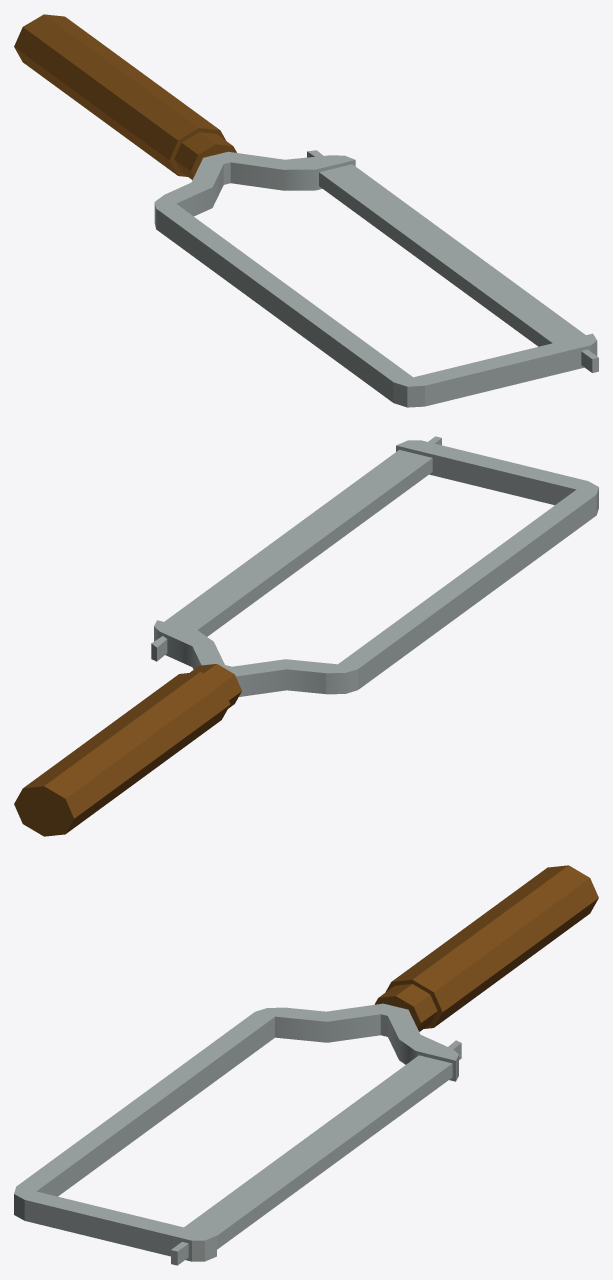
File: CuttingSaw.fbx
The picture shows the model from 3 angles, top to bottom: view 1: azimuth 30°, elevation 25°; view 2: azimuth 150°, elevation 25°; view 3: azimuth 330°, elevation 25°; orthographic projection.
Parts seen in each view (by area): view 1: CuttingSaw; view 2: CuttingSaw; view 3: CuttingSaw.
Boxes of the visible parts, left/top/right/bottom form: CuttingSaw: left=14, top=14, right=598, bottom=407; CuttingSaw: left=14, top=436, right=598, bottom=836; CuttingSaw: left=14, top=865, right=598, bottom=1265.
Bounding box in the file's own units: 15 × 3.6 × 61.46.
